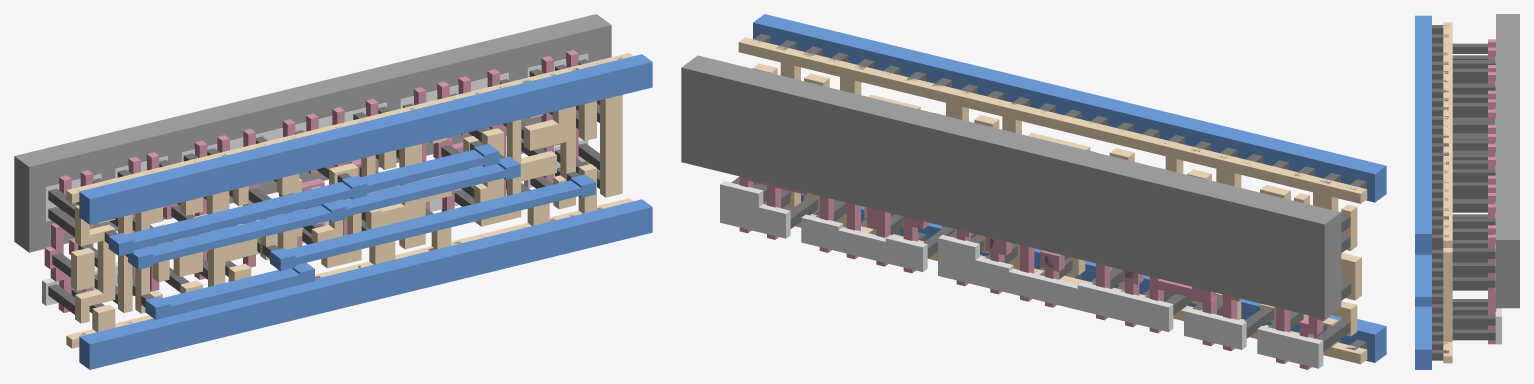
The model's file is sky130_fd_sc_hd__edfxtp_1.gds.gltf.
3 renders of one model, left to right at view 1: azimuth 30°, elevation 25°; view 2: azimuth 150°, elevation 25°; view 3: azimuth 270°, elevation 25°, orthographic. The views are drawn at different scales.
Visible parts, largest first — view 1: sky130_fd_sc_hd__edfxtp_1_met1, sky130_fd_sc_hd__edfxtp_1_li1, sky130_fd_sc_hd__edfxtp_1_nwell, sky130_fd_sc_hd__edfxtp_1_poly, sky130_fd_sc_hd__edfxtp_1_licon, sky130_fd_sc_hd__edfxtp_1_diff, sky130_fd_sc_hd__edfxtp_1_mcon; view 2: sky130_fd_sc_hd__edfxtp_1_nwell, sky130_fd_sc_hd__edfxtp_1_li1, sky130_fd_sc_hd__edfxtp_1_met1, sky130_fd_sc_hd__edfxtp_1_diff, sky130_fd_sc_hd__edfxtp_1_poly, sky130_fd_sc_hd__edfxtp_1_licon, sky130_fd_sc_hd__edfxtp_1_mcon; view 3: sky130_fd_sc_hd__edfxtp_1_licon, sky130_fd_sc_hd__edfxtp_1_nwell, sky130_fd_sc_hd__edfxtp_1_met1, sky130_fd_sc_hd__edfxtp_1_mcon, sky130_fd_sc_hd__edfxtp_1_li1, sky130_fd_sc_hd__edfxtp_1_poly, sky130_fd_sc_hd__edfxtp_1_diff.
Part boxes in pixels (bbox=[...]): sky130_fd_sc_hd__edfxtp_1_met1: bbox=[79, 54, 652, 369]; sky130_fd_sc_hd__edfxtp_1_li1: bbox=[66, 53, 633, 348]; sky130_fd_sc_hd__edfxtp_1_nwell: bbox=[14, 14, 611, 252]; sky130_fd_sc_hd__edfxtp_1_poly: bbox=[44, 50, 578, 312]; sky130_fd_sc_hd__edfxtp_1_licon: bbox=[48, 59, 599, 314]; sky130_fd_sc_hd__edfxtp_1_diff: bbox=[42, 53, 588, 305]; sky130_fd_sc_hd__edfxtp_1_mcon: bbox=[76, 57, 622, 336]; sky130_fd_sc_hd__edfxtp_1_nwell: bbox=[681, 55, 1341, 318]; sky130_fd_sc_hd__edfxtp_1_li1: bbox=[738, 37, 1367, 364]; sky130_fd_sc_hd__edfxtp_1_met1: bbox=[753, 14, 1386, 362]; sky130_fd_sc_hd__edfxtp_1_diff: bbox=[720, 181, 1323, 368]; sky130_fd_sc_hd__edfxtp_1_poly: bbox=[739, 176, 1329, 369]; sky130_fd_sc_hd__edfxtp_1_licon: bbox=[731, 82, 1351, 351]; sky130_fd_sc_hd__edfxtp_1_mcon: bbox=[752, 33, 1366, 350]; sky130_fd_sc_hd__edfxtp_1_licon: bbox=[1452, 43, 1495, 340]; sky130_fd_sc_hd__edfxtp_1_nwell: bbox=[1496, 14, 1519, 308]; sky130_fd_sc_hd__edfxtp_1_met1: bbox=[1415, 15, 1431, 369]; sky130_fd_sc_hd__edfxtp_1_mcon: bbox=[1432, 25, 1448, 360]; sky130_fd_sc_hd__edfxtp_1_li1: bbox=[1443, 22, 1452, 363]; sky130_fd_sc_hd__edfxtp_1_poly: bbox=[1488, 39, 1496, 344]; sky130_fd_sc_hd__edfxtp_1_diff: bbox=[1495, 56, 1501, 344].
Size of the model in its own units: 11.42 by 3.2 by 2.24.
